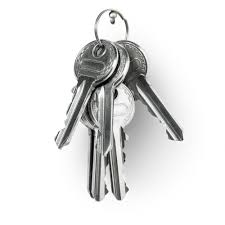key: (52, 40, 122, 151)
